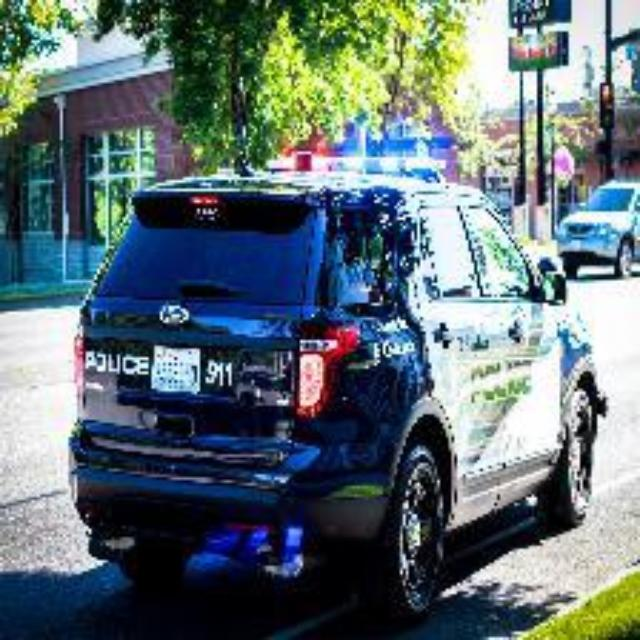emergency: (62, 154, 616, 562)
